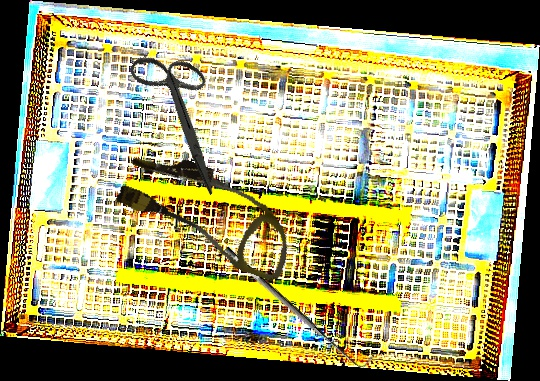Cannula: (107, 141, 308, 284)
Hook Surgical: (221, 235, 375, 377)
Iris Scissors: (97, 36, 267, 196)
